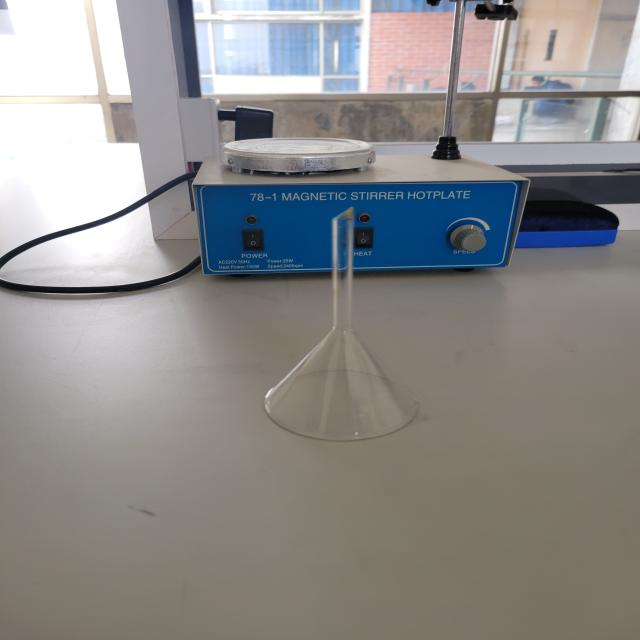Funnel: (224, 186, 462, 475)
